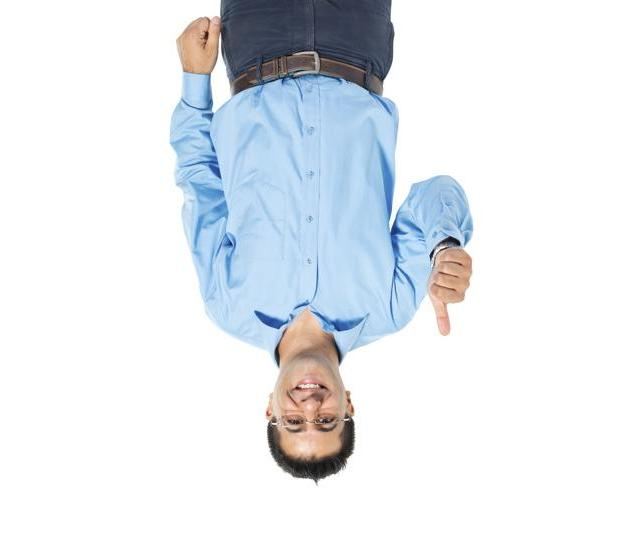thumbsdown: (429, 249, 472, 336)
